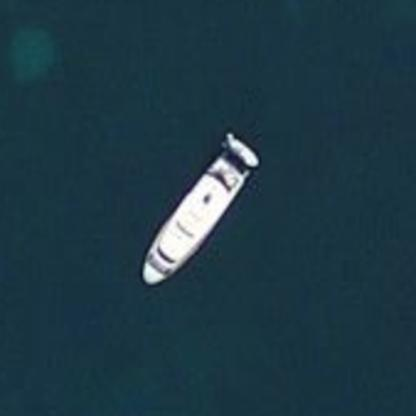ship: (134, 126, 268, 292)
